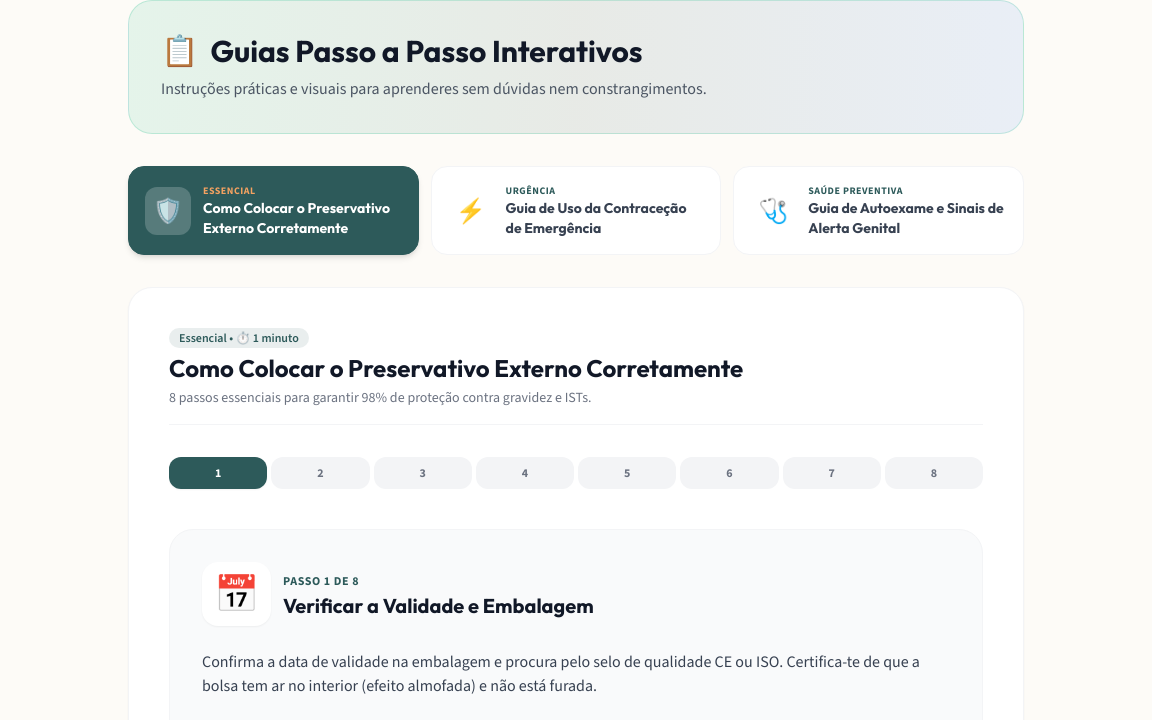
Test: StepByStepGuides › switches to third guide (autoexame) and shows 5 steps
Click the heading "Guia de Autoexame e Sinais de Alerta Genital".
click(908, 218)  # box [808,198,1007,238]
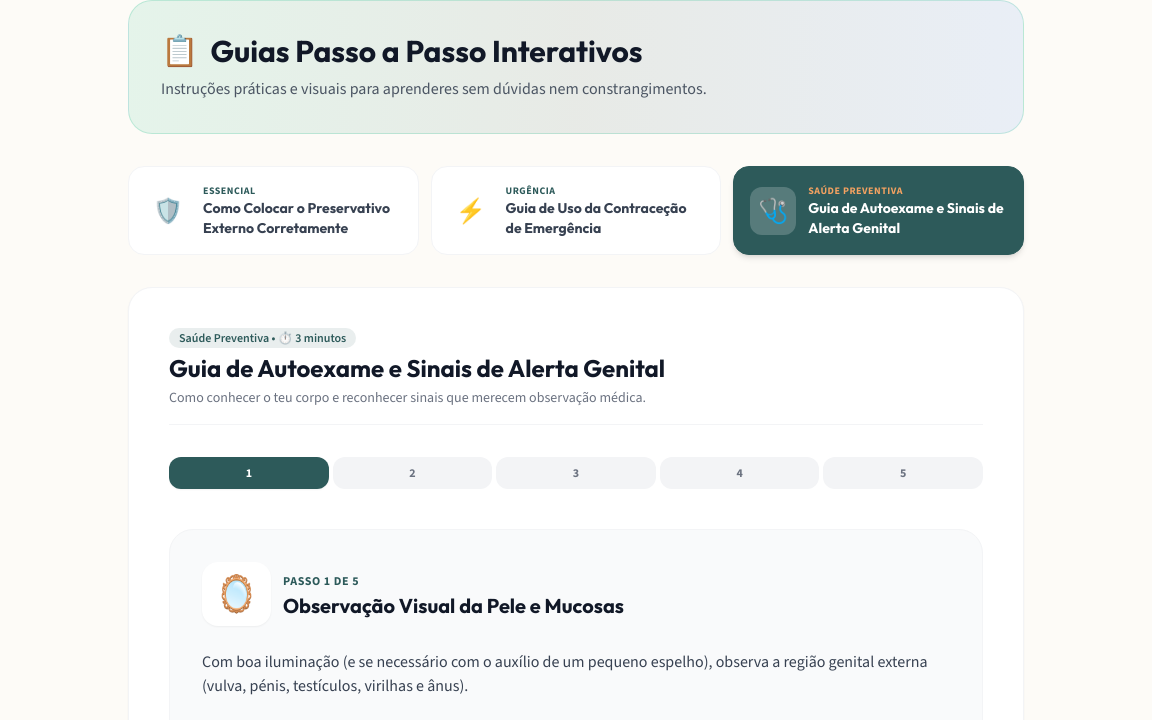
Expected: the text "Saúde Preventiva" is shown, [808,184,903,197]
Result: the text "Saúde Preventiva • ⏱️ 3 minutos" is shown at [169,328,356,348]
Result: the text "Passo 1 de 5" is shown at [283,573,359,589]
